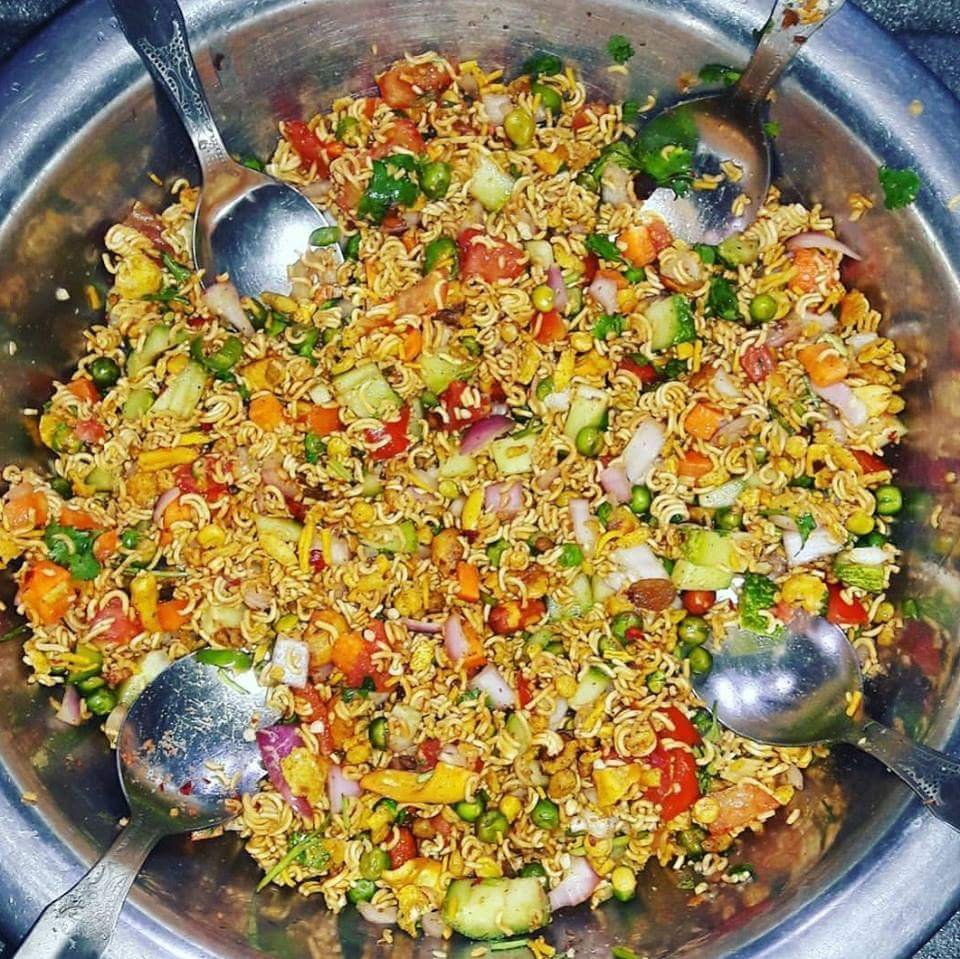chatpate: (40, 164, 868, 832)
